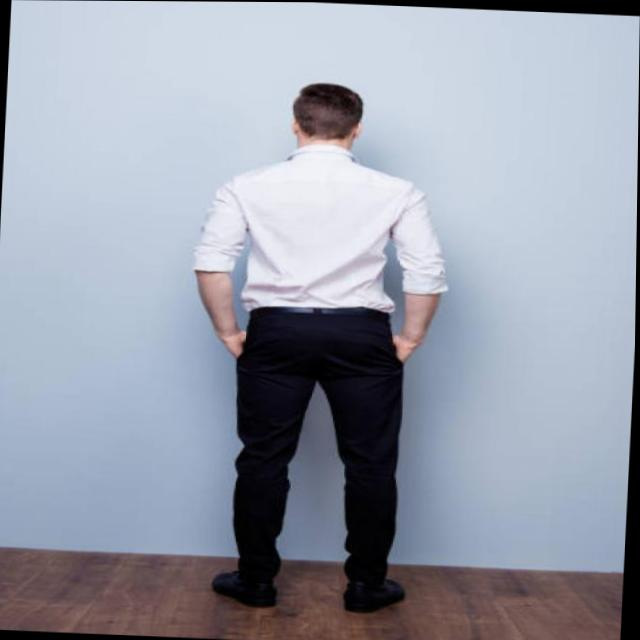no helmet: (241, 62, 403, 177)
